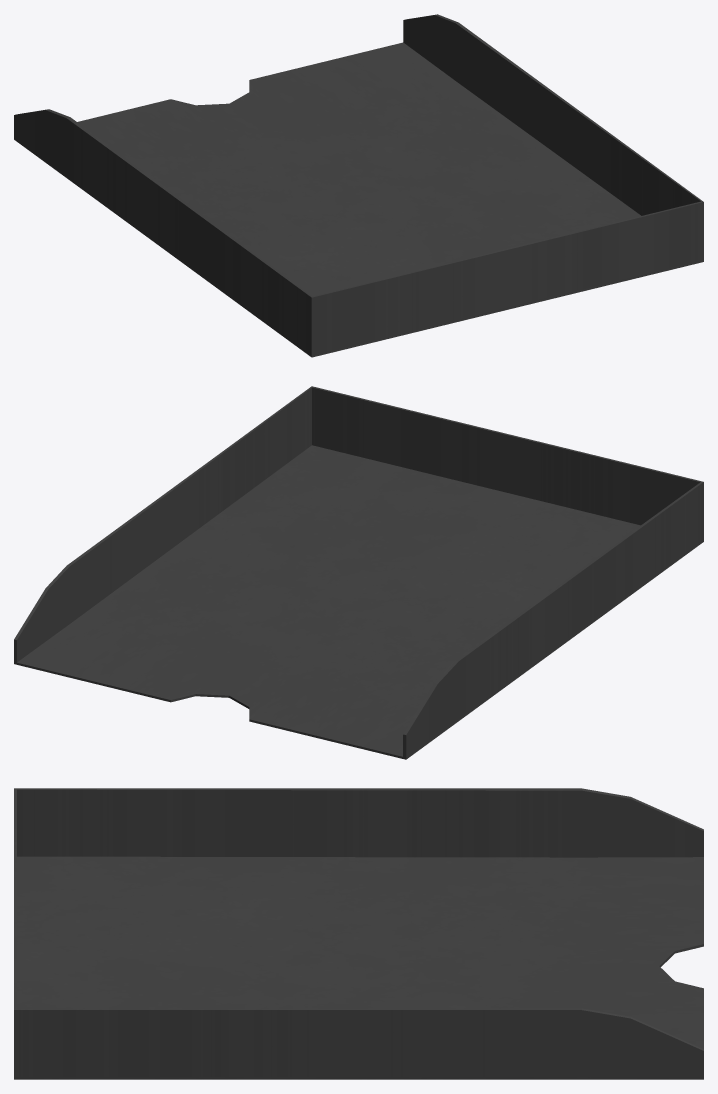
File: Letter_Tray.fbx
The picture shows the model from 3 angles, top to bottom: view 1: azimuth 30°, elevation 25°; view 2: azimuth 150°, elevation 25°; view 3: azimuth 270°, elevation 25°; orthographic projection. The views are drawn at different scales.
Visible parts, largest first — view 1: pCube1; view 2: pCube1; view 3: pCube1.
Boxes of the visible parts, x1,y1,x2,y2 form: pCube1: (14, 14, 703, 357); pCube1: (14, 386, 703, 759); pCube1: (14, 788, 703, 1079).
Size of the model in its own units: 14.94 by 2.18 by 19.65.
